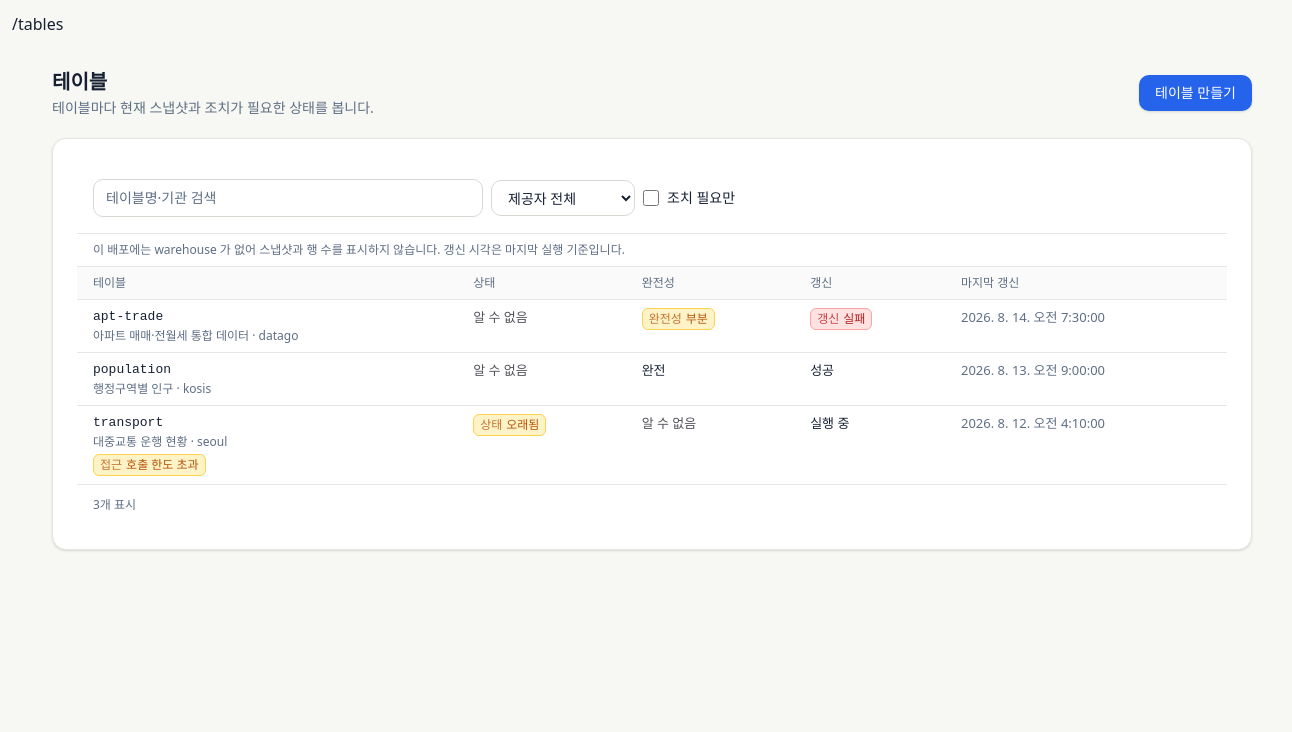
Test case: Tables without a warehouse (mock deployment) › searches table/provider and preserves q in the URL
The width and height of the screenshot is (1292, 732).
Expected: the text "apt-trade" is shown, x1=93 y1=309 x2=163 y2=324
Step 1. Type "population" into the field named "테이블 / 제공자 검색" → (288, 198), box x1=93 y1=179 x2=483 y2=217
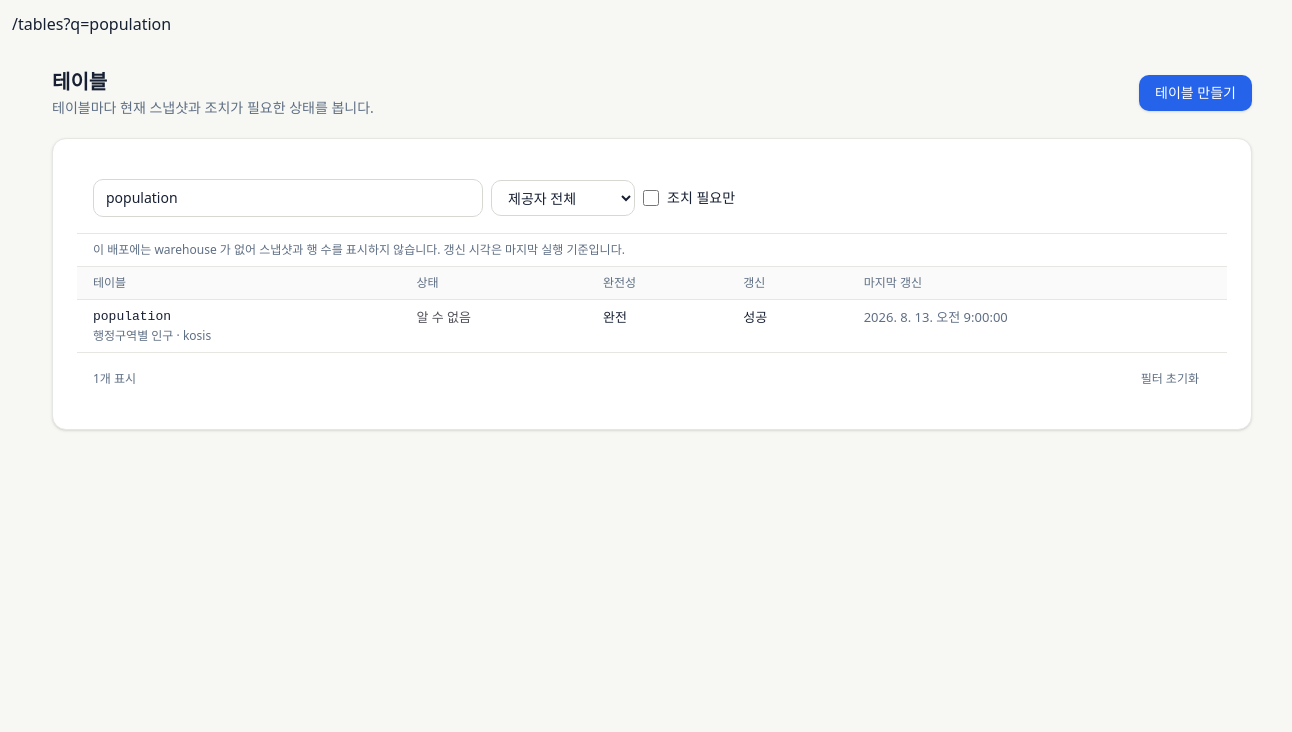
Expected: the text "population" is shown, x1=93 y1=309 x2=171 y2=324
Result: the link "apt-trade" is gone
Result: the text with test id "location" shows "?q=population" at x1=63 y1=13 x2=171 y2=35
